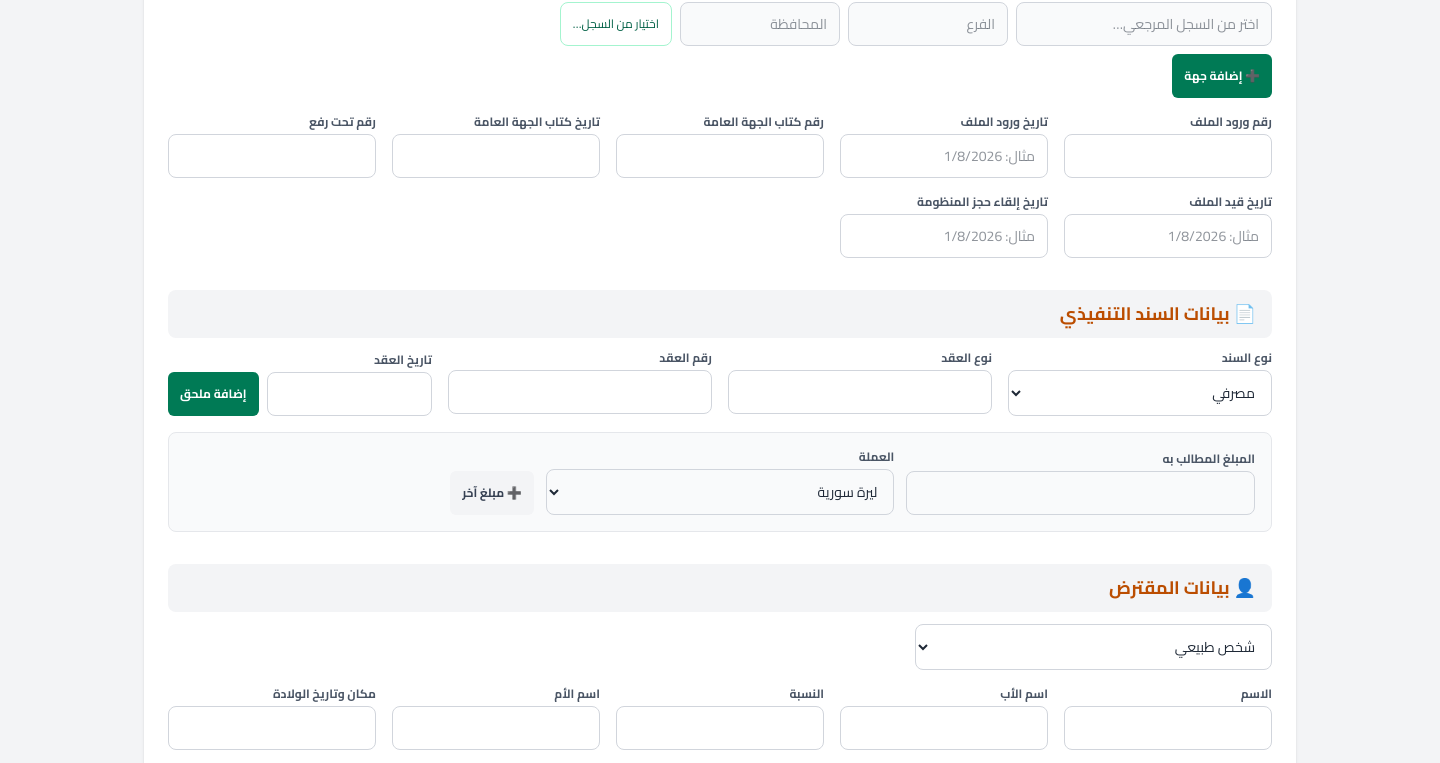
Test: DocumentForm · ملحق العقد والتخطيط › يخفي زر «إضافة ملحق» للعقد العادي
(page scrolled)
Select "عادي" in the dropdown labelled "نوع السند" at [1140, 393], box [1008,370,1272,416]
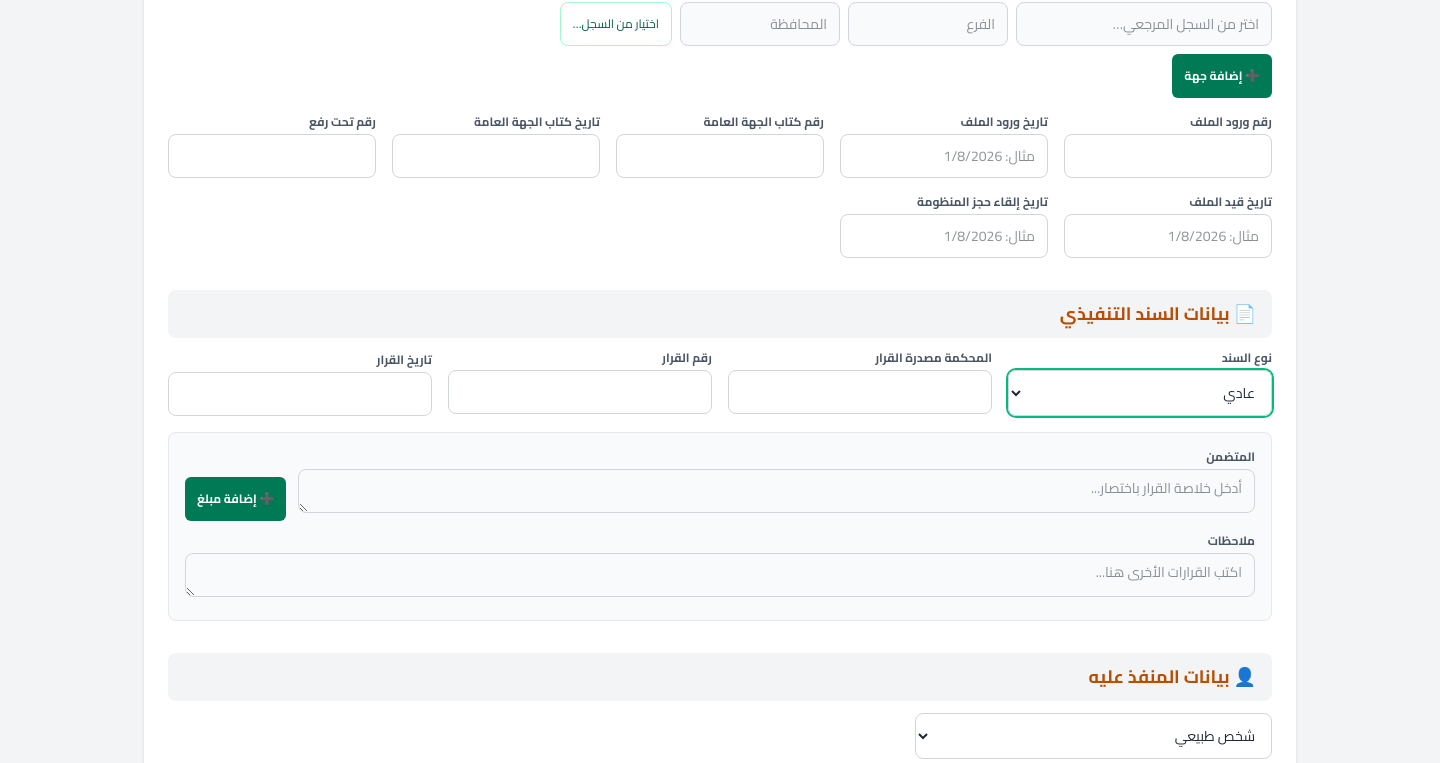
expect the button "إضافة ملحق" is gone: met
